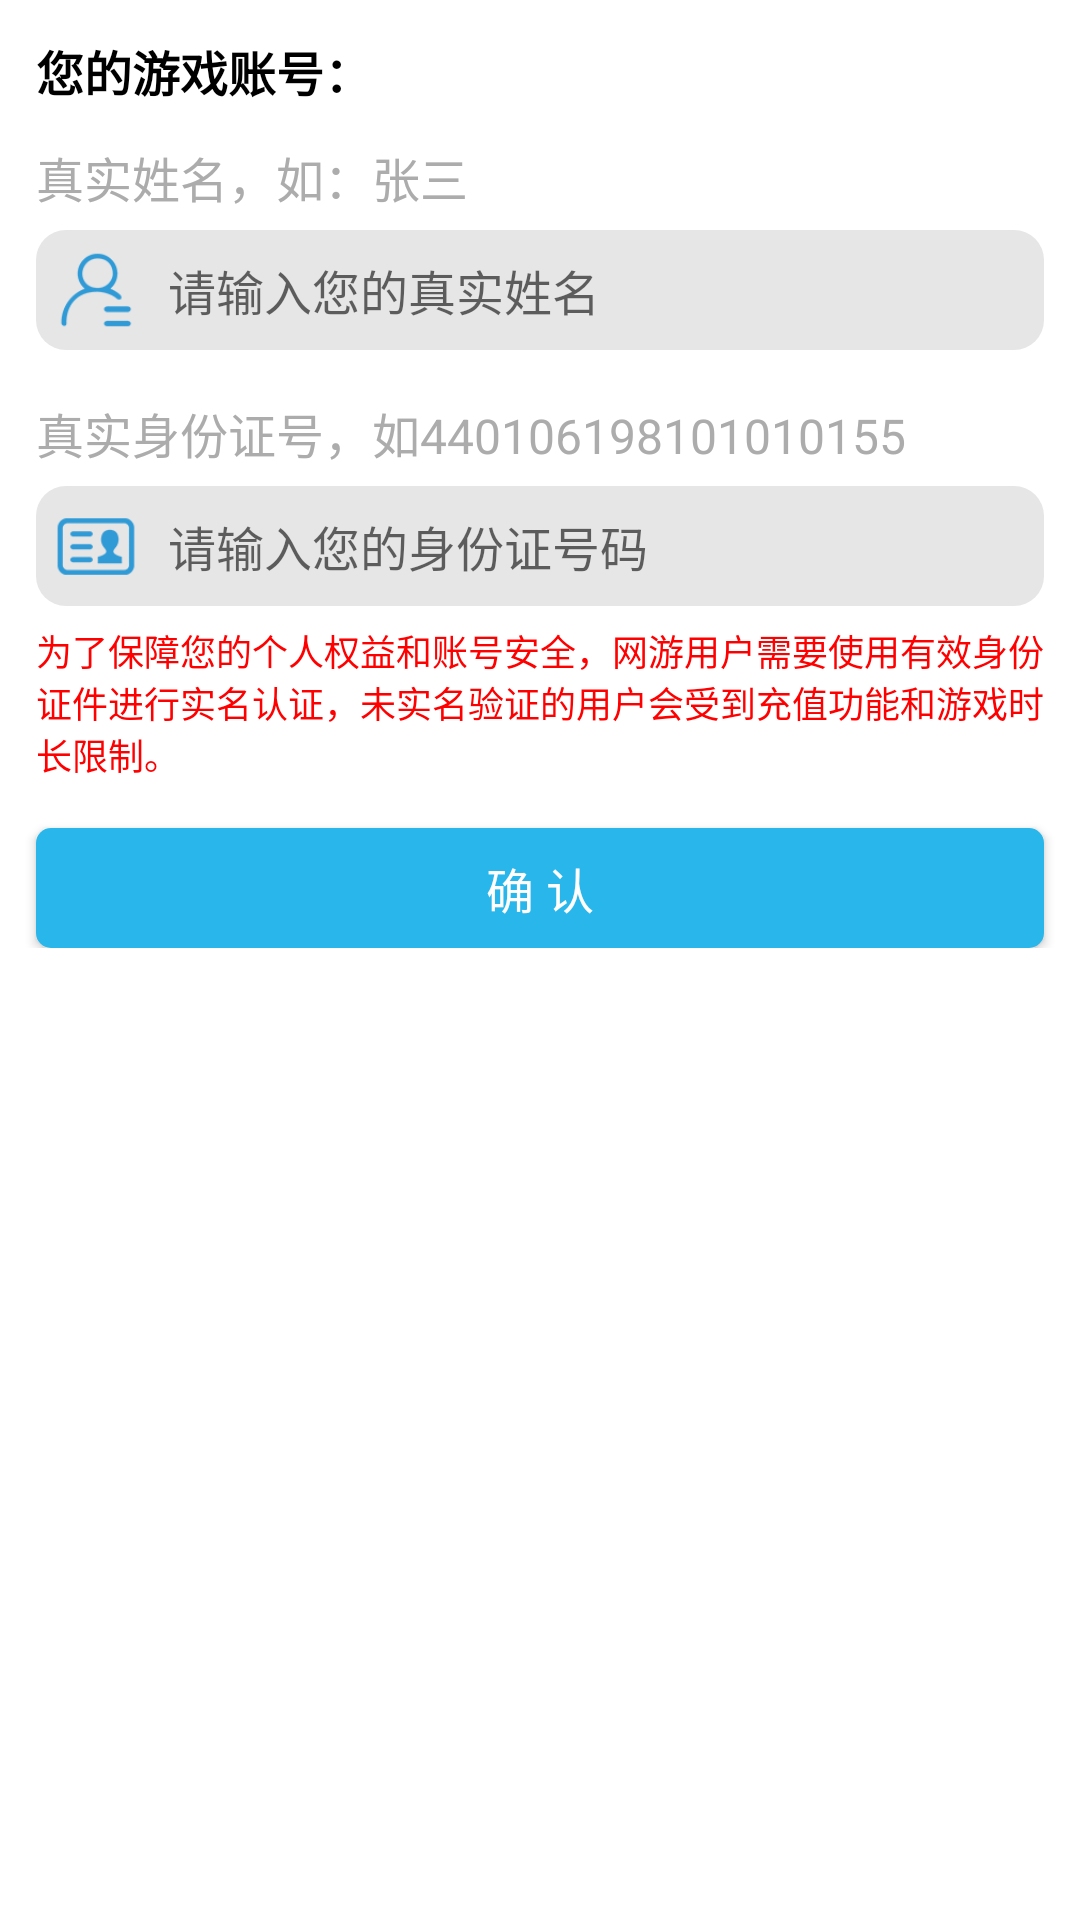

Icons on this 1080px×1920px Android screen, each with its box as (x1, y1, x2, y2):
姓名图标: (61, 253, 131, 327)
身份证图标: (57, 518, 135, 575)
